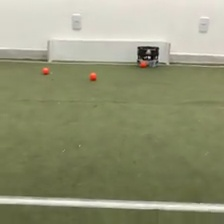ball: (41, 65, 50, 74), (88, 71, 97, 80), (139, 60, 147, 67)
goal: (47, 37, 172, 66)
robot: (136, 44, 160, 68)
